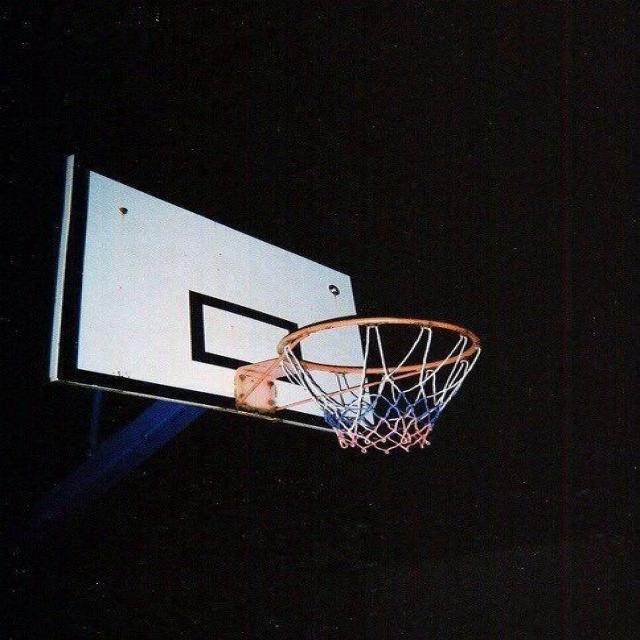hoop: (251, 327, 509, 468)
